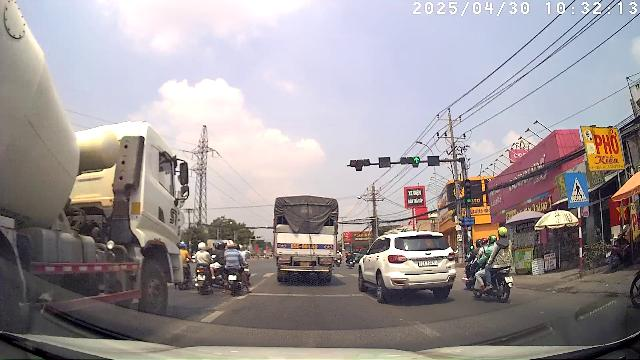423a-duong-nguoi-di-bo-sang-ngang-1: (566, 173, 590, 207)
